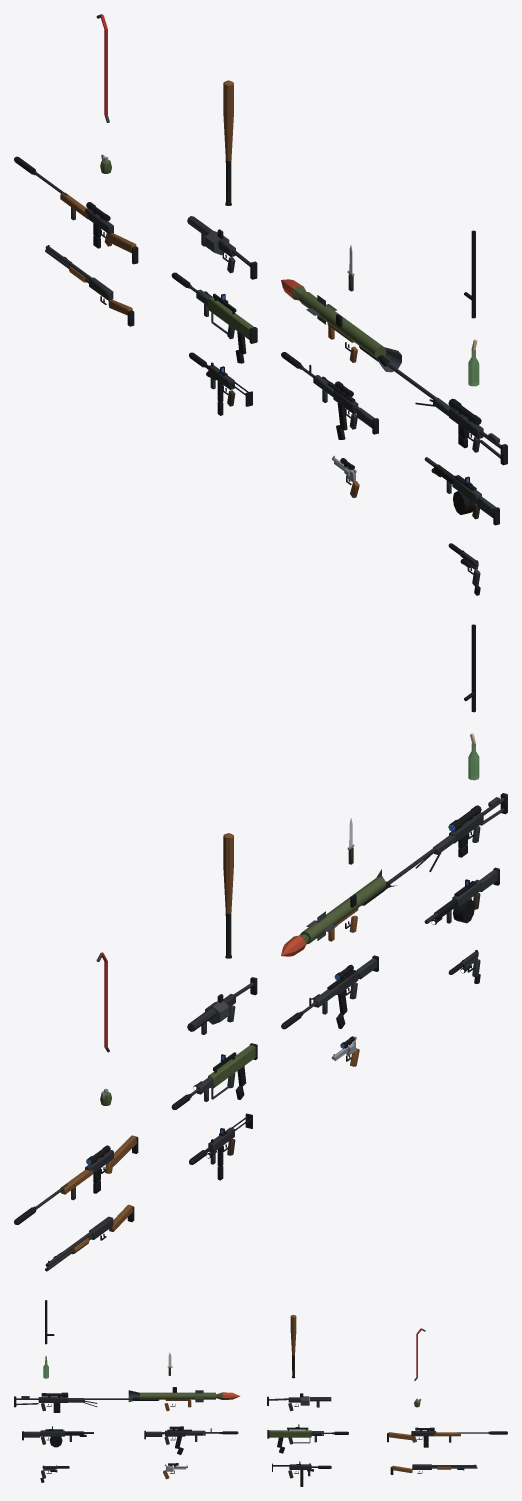
The model's file is weapons.glb.
3 renders of one model, top to bottom at view 1: azimuth 30°, elevation 25°; view 2: azimuth 150°, elevation 25°; view 3: azimuth 270°, elevation 25°, orthographic. The views are drawn at different scales.
Parts seen in each view (by area): view 1: w_rpg_Body, w_sniper_Body, w_carbine_Body, w_marksman_Body, w_glauncher_Body, w_rifle_Body, w_autoshotgun_Body, w_bat_Body, w_shotgun_Body, w_smg_Body; view 2: w_rpg_Body, w_sniper_Body, w_carbine_Body, w_marksman_Body, w_glauncher_Body, w_rifle_Body, w_autoshotgun_Body, w_bat_Body, w_shotgun_Body; view 3: w_rpg_Body, w_sniper_Body, w_carbine_Body, w_marksman_Body, w_rifle_Body, w_autoshotgun_Body, w_glauncher_Body, w_shotgun_Body, w_bat_Body, w_rpg_Rocket, w_smg_Body.
Part boxes in pixels (<box>): w_rpg_Body: <box>299,291,401,372</box>; w_sniper_Body: <box>379,357,507,465</box>; w_carbine_Body: <box>186,283,257,343</box>; w_marksman_Body: <box>32,169,138,264</box>; w_glauncher_Body: <box>187,216,257,279</box>; w_rifle_Body: <box>297,364,378,434</box>; w_autoshotgun_Body: <box>424,457,499,525</box>; w_bat_Body: <box>223,80,233,205</box>; w_shotgun_Body: <box>45,245,134,326</box>; w_smg_Body: <box>202,362,252,406</box>; w_rpg_Body: <box>300,869,396,944</box>; w_sniper_Body: <box>385,793,507,889</box>; w_carbine_Body: <box>188,1043,257,1099</box>; w_marksman_Body: <box>34,1135,138,1210</box>; w_glauncher_Body: <box>187,977,257,1034</box>; w_rifle_Body: <box>299,955,378,1015</box>; w_autoshotgun_Body: <box>424,867,499,923</box>; w_bat_Body: <box>223,833,233,958</box>; w_shotgun_Body: <box>45,1204,134,1266</box>; w_rpg_Body: <box>128,1387,215,1410</box>; w_sniper_Body: <box>14,1396,138,1411</box>; w_carbine_Body: <box>267,1427,334,1444</box>; w_marksman_Body: <box>387,1431,490,1442</box>; w_rifle_Body: <box>144,1428,222,1444</box>; w_autoshotgun_Body: <box>22,1429,93,1444</box>; w_glauncher_Body: <box>267,1393,331,1411</box>; w_shotgun_Body: <box>390,1464,476,1474</box>; w_bat_Body: <box>290,1315,296,1378</box>; w_rpg_Rocket: <box>195,1390,240,1402</box>; w_smg_Body: <box>272,1463,318,1478</box>.
Size of the model in its own units: 0.16 by 2.49 by 5.99.
